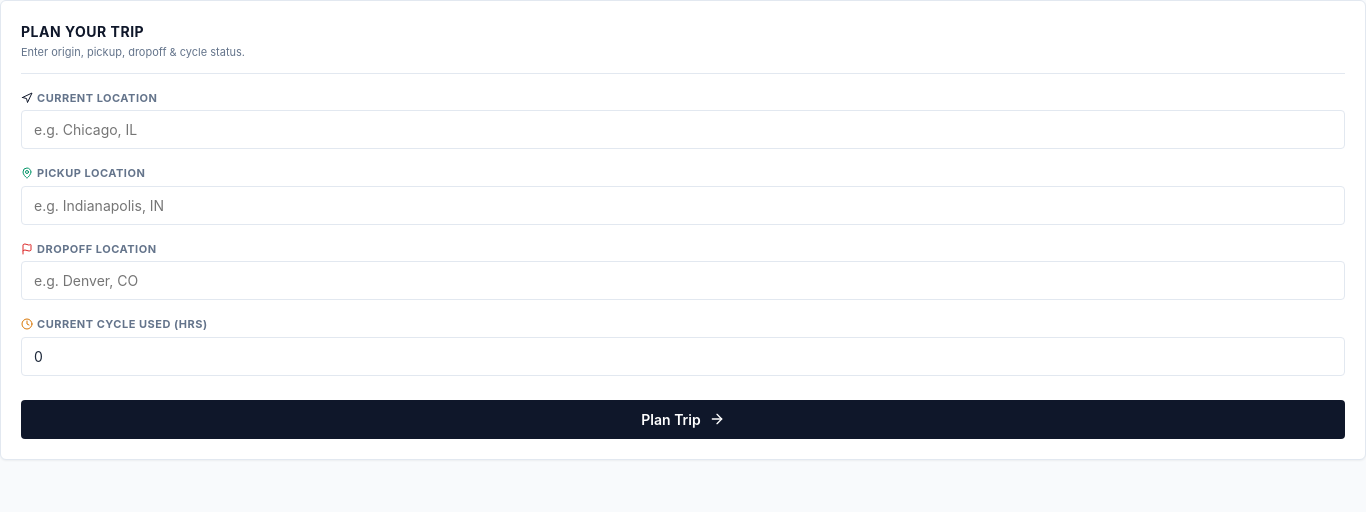
PlannerForm Validation › rejects cycle 70
Type "Chicago, IL" into the field labelled "Current Location" at (683, 130), box [21,110,1345,149]
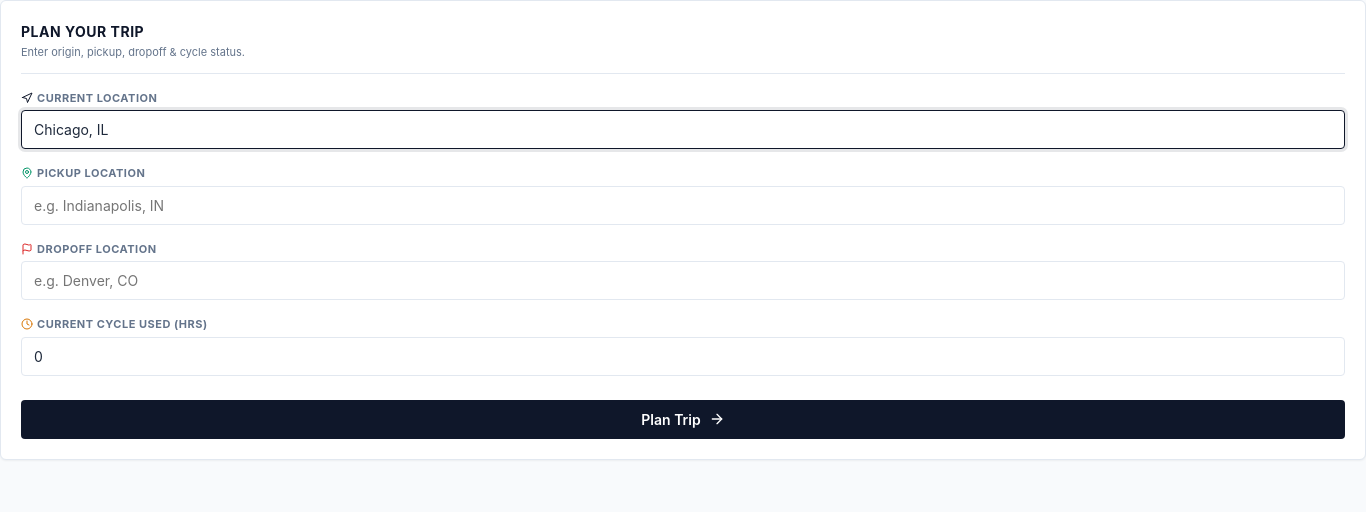
Type "Indy, IN" into the field labelled "Pickup Location" at (683, 205), box [21,186,1345,224]
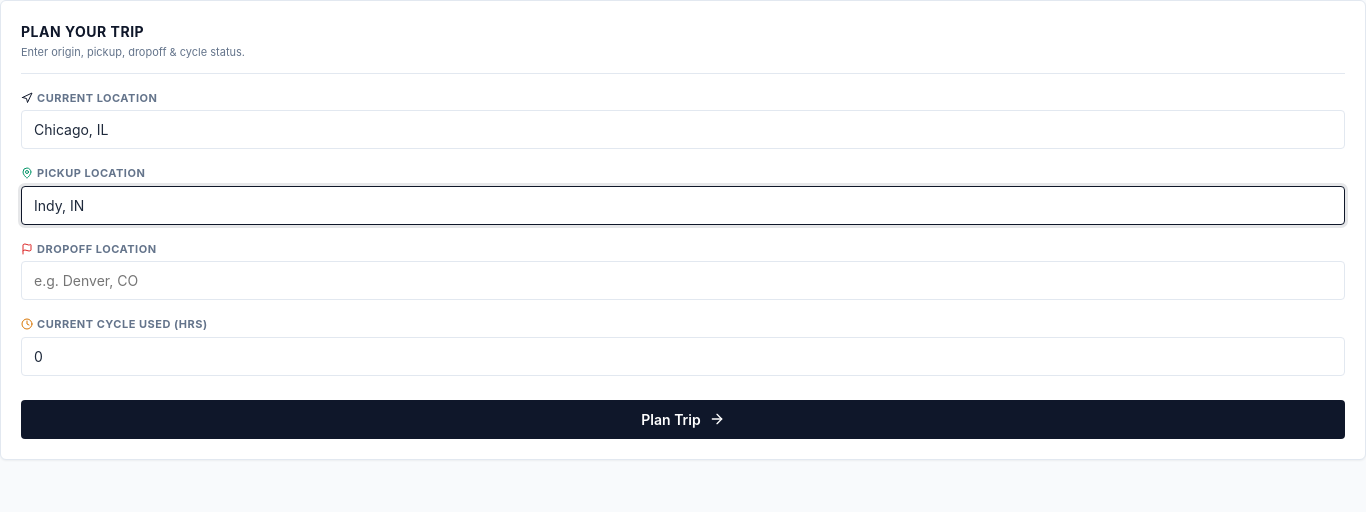
Type "Denver, CO" into the field labelled "Dropoff Location" at (683, 280), box [21,261,1345,300]
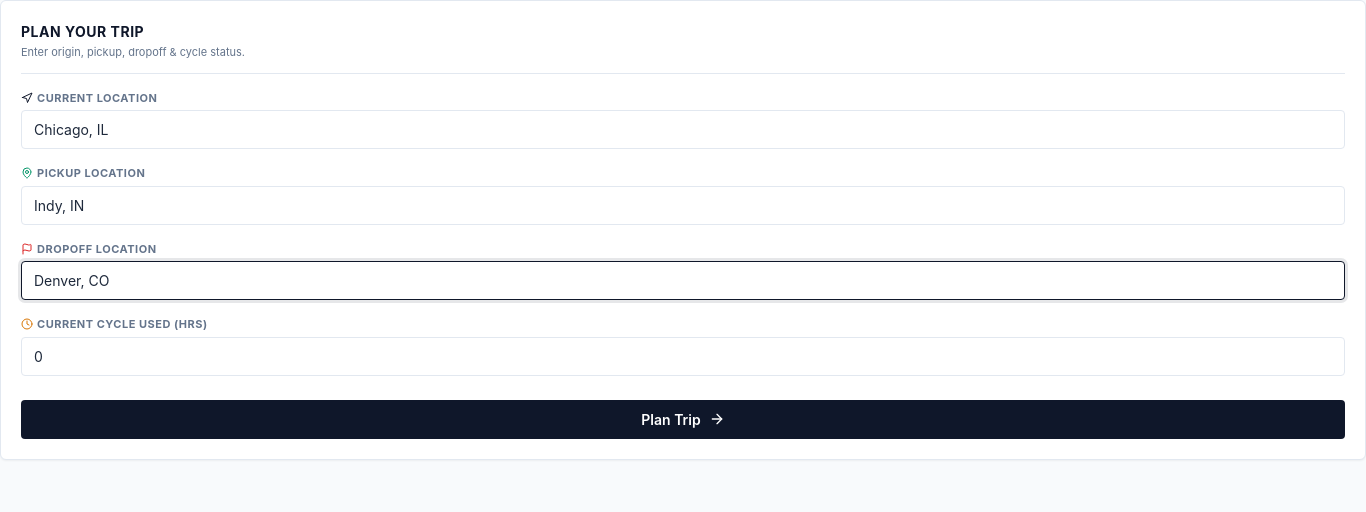
Replace the text in the number field labelled "Current Cycle Used (Hrs)" with "70" at (683, 356), box [21,336,1345,376]
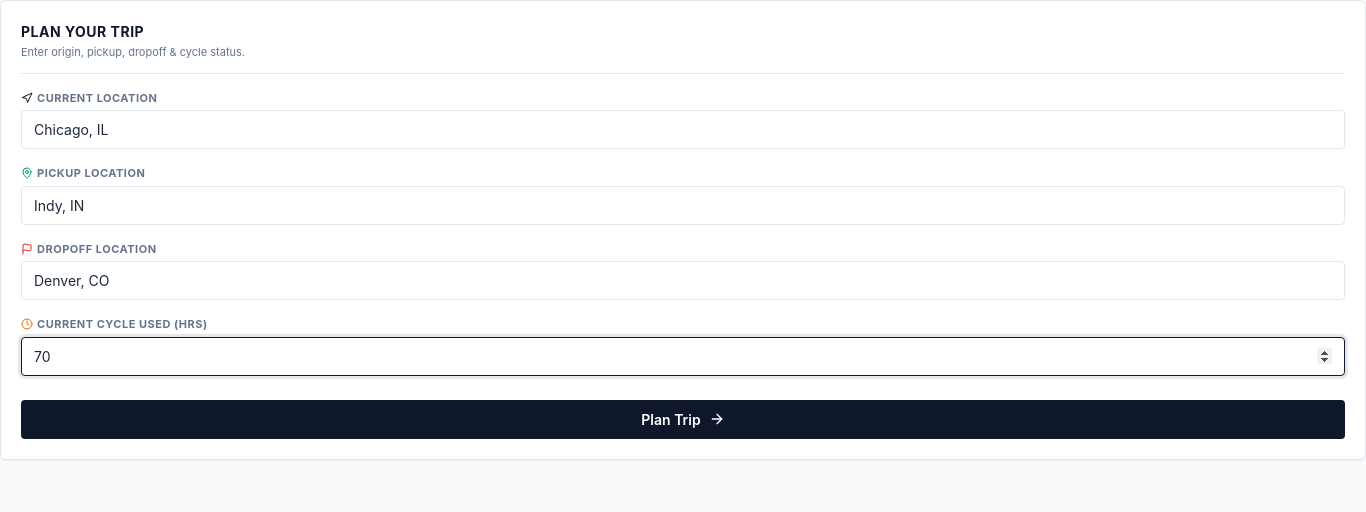
Submit the form with test id "planner-form"
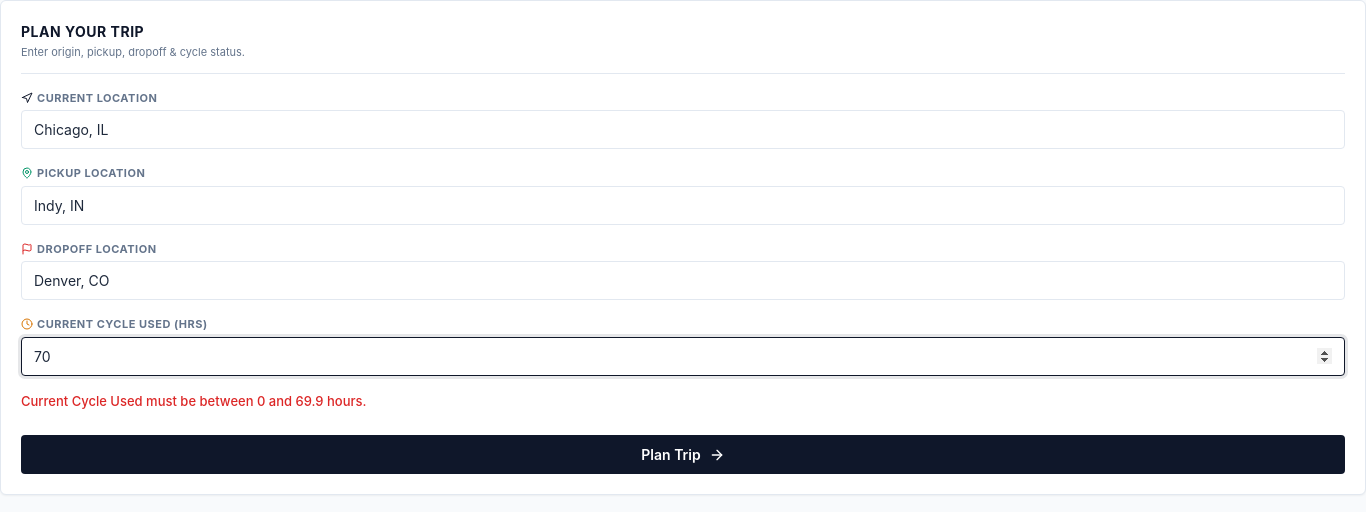
Expected: the text with test id "validation-error" shows "must be between 0 and 69.9", [21,392,366,408]
